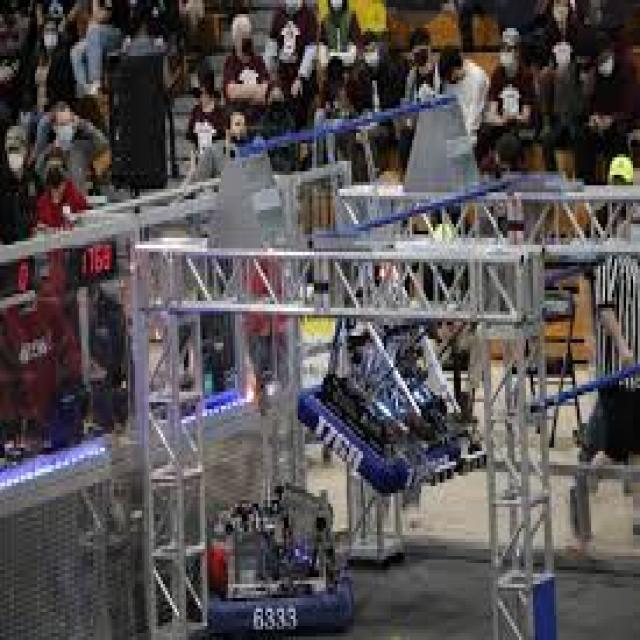robot: (293, 196, 484, 493), (182, 469, 354, 633)
